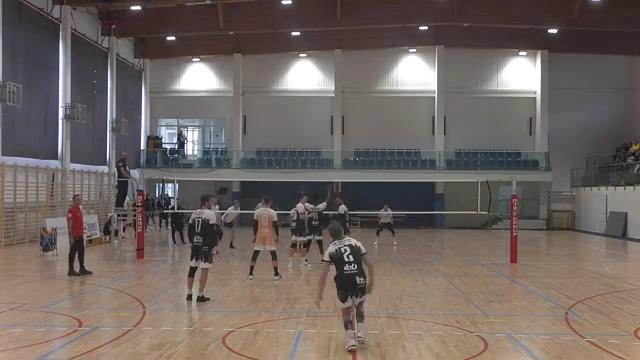Player: (308, 220, 377, 352), (186, 194, 219, 301), (248, 196, 281, 280), (288, 194, 310, 267), (306, 192, 330, 255), (374, 205, 397, 245), (222, 200, 239, 248), (336, 196, 349, 234), (212, 195, 222, 239), (254, 200, 262, 210)
